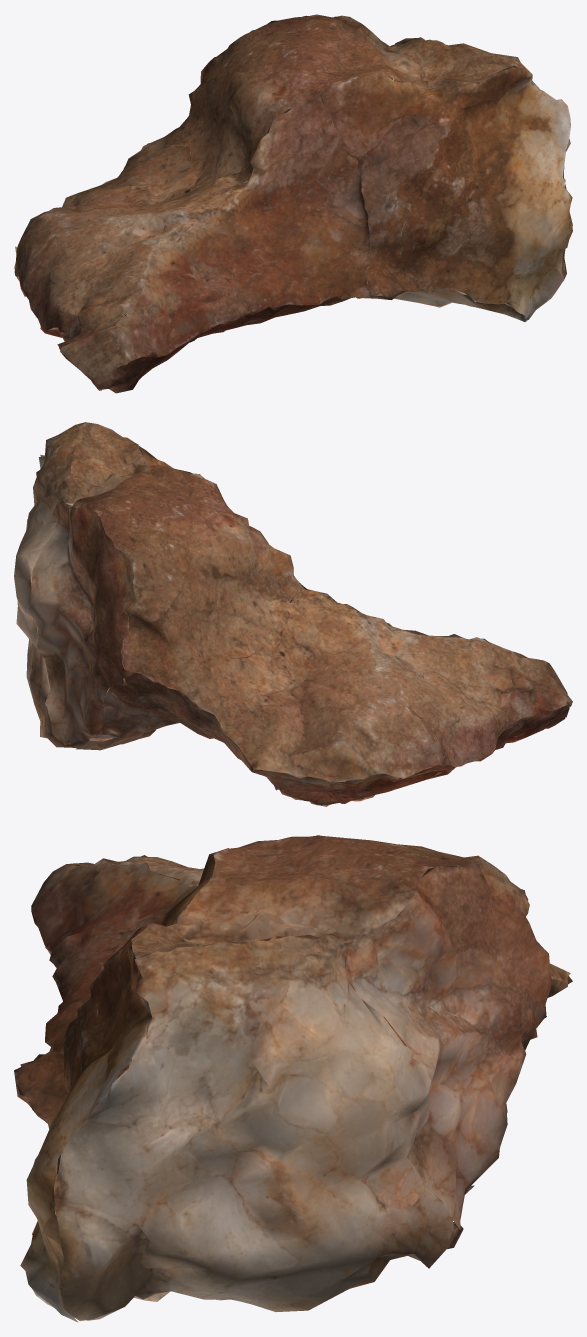
Rendered from stone_01-runtime.glb.
3 renders of one model, top to bottom at view 1: azimuth 30°, elevation 25°; view 2: azimuth 150°, elevation 25°; view 3: azimuth 270°, elevation 25°, orthographic. The views are drawn at different scales.
Visible parts, largest first — view 1: stone_01; view 2: stone_01; view 3: stone_01.
Boxes of the visible parts, x1=… form: stone_01: x1=14, y1=14, x2=572, y2=393; stone_01: x1=14, y1=422, x2=572, y2=806; stone_01: x1=14, y1=835, x2=572, y2=1322.
Bounding box in the file's own units: 0.147 × 0.0713 × 0.0897.
1 material, 1 textured.
